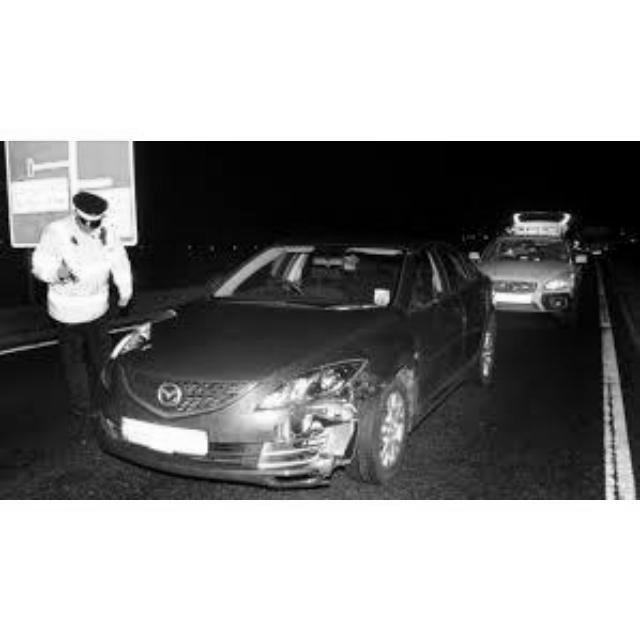Headlight-damage: (249, 361, 364, 425)
front-bumper-dent: (196, 423, 343, 487)
